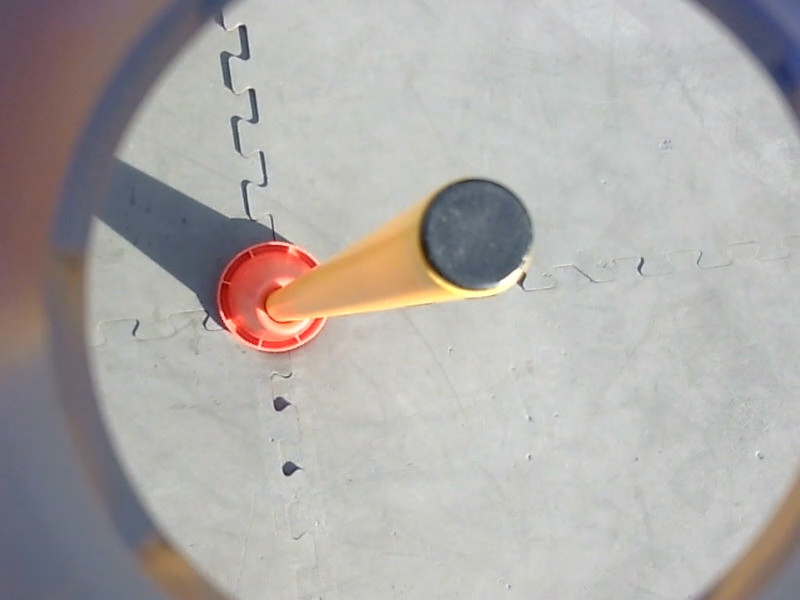tip: (409, 173, 540, 302)
